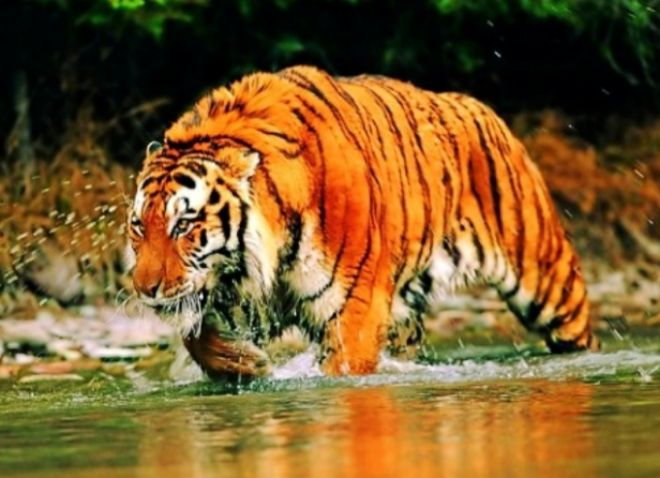Tigrew: (107, 72, 602, 404)
